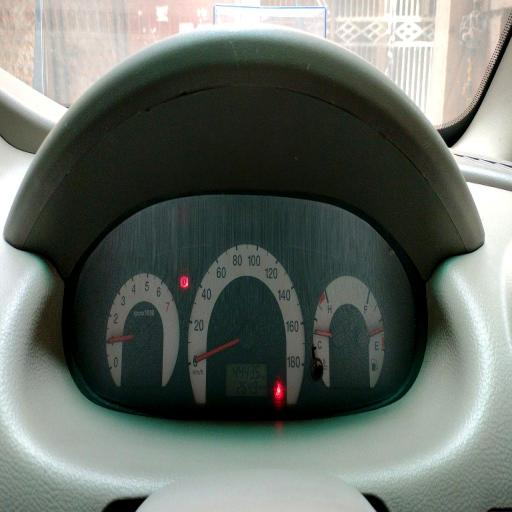brake_system_fault: (180, 276, 188, 288)
tachometer: (106, 271, 180, 391)
